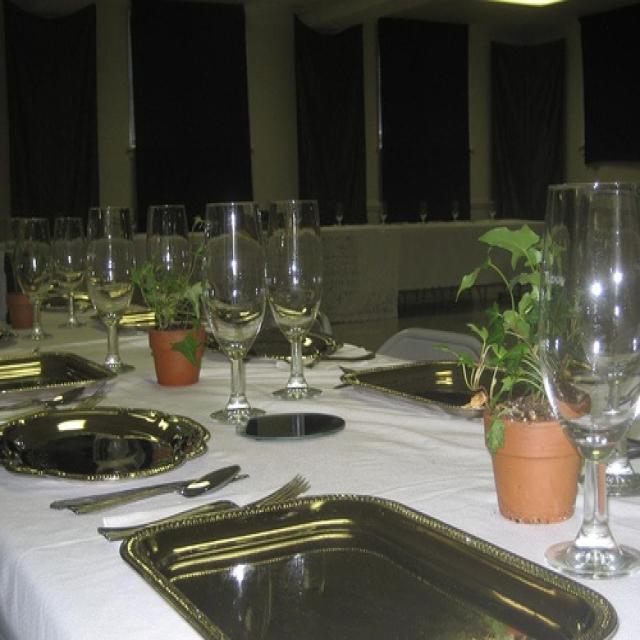diningtable: (1, 284, 639, 638)
pottedplant: (462, 225, 588, 522), (136, 217, 207, 386)
